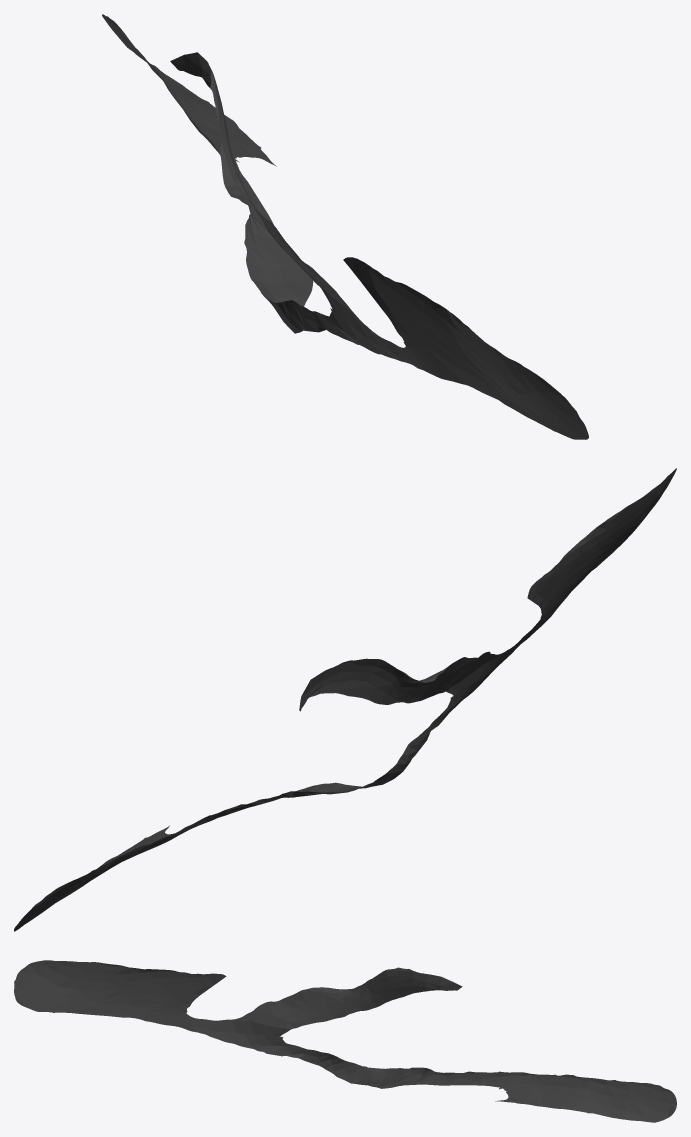
The model's file is lig_med_collat_elbow.glb.
3 views of the same model, one above another, from view 1: azimuth 30°, elevation 25°; view 2: azimuth 150°, elevation 25°; view 3: azimuth 270°, elevation 25° (orthographic). The views are drawn at different scales.
Visible parts, largest first — view 1: lig_med_collat_elbow; view 2: lig_med_collat_elbow; view 3: lig_med_collat_elbow.
Boxes of the visible parts, <box> form: lig_med_collat_elbow: <box>102,14,588,439</box>; lig_med_collat_elbow: <box>14,468,676,931</box>; lig_med_collat_elbow: <box>14,960,676,1122</box>.
Size of the model in its own units: 0.0574 by 0.0486 by 0.27.
1 material, 1 textured.
